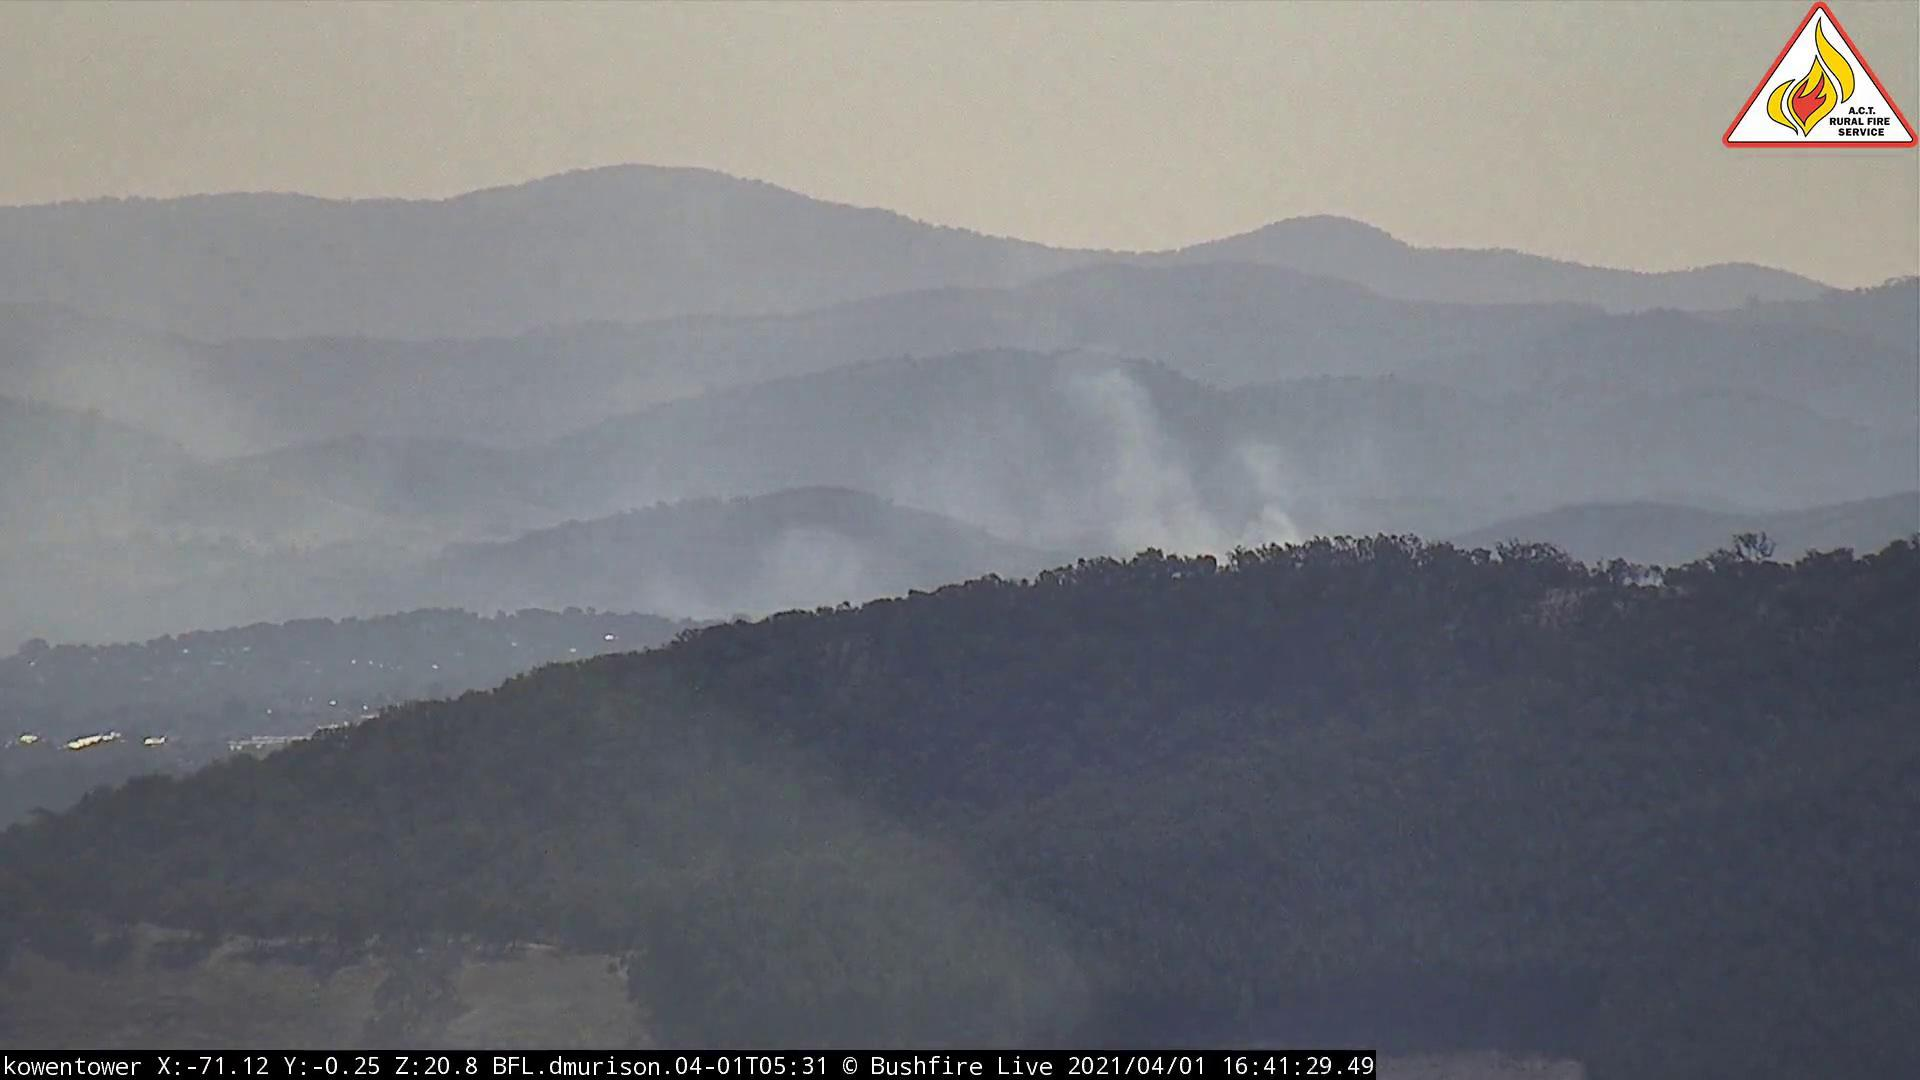Smoke: (566, 266, 1375, 665)
